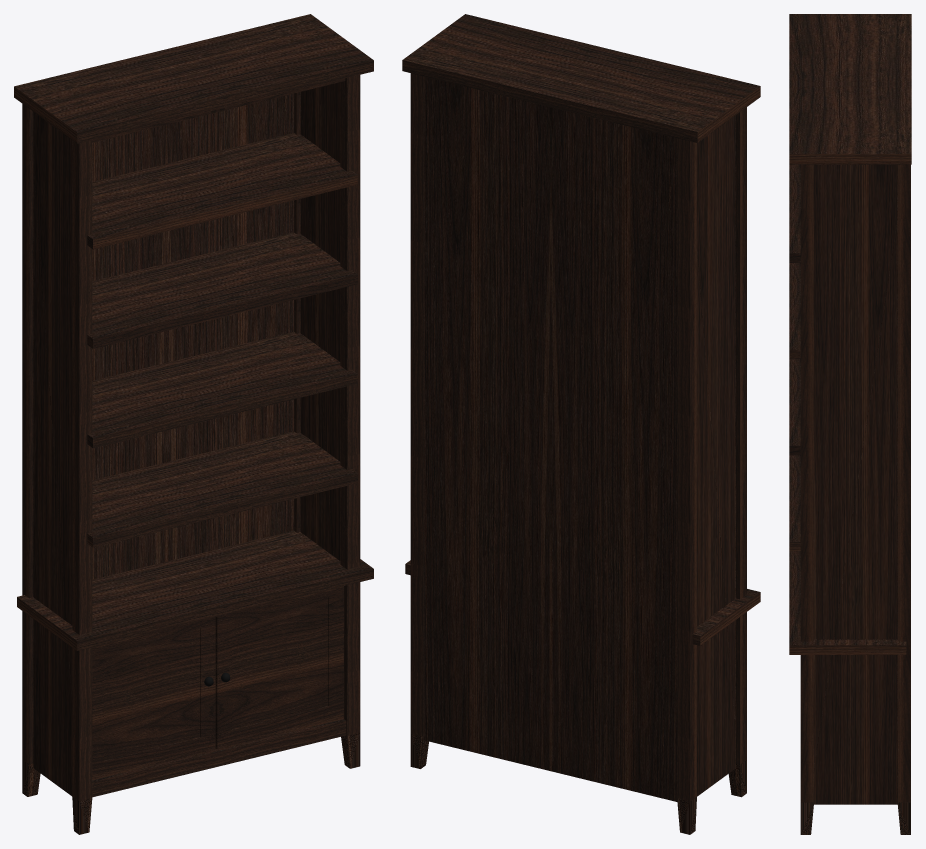
Rendered from Librero.fbx.
3 renders of one model, left to right at view 1: azimuth 30°, elevation 25°; view 2: azimuth 150°, elevation 25°; view 3: azimuth 270°, elevation 25°, orthographic. The views are drawn at different scales.
Parts seen in each view (by area): view 1: Cube.003, Plane.003, Cube.001, Plane.002, Cube.005, Cube.004, Plane, Plane.004, Cube.002; view 2: Plane.002, Cube.001, Plane.003, Cube.005, Cube.004; view 3: Plane.003, Cube.005, Cube.001, Cube.003, Cube.004.
Part boxes in pixels (bbox=[...]): Cube.003: bbox=[87, 78, 357, 547]; Plane.003: bbox=[33, 82, 340, 796]; Cube.001: bbox=[22, 75, 360, 834]; Plane.002: bbox=[92, 93, 293, 579]; Cube.005: bbox=[14, 14, 373, 143]; Cube.004: bbox=[17, 530, 373, 650]; Plane: bbox=[215, 586, 343, 749]; Plane.004: bbox=[92, 617, 215, 779]; Cube.002: bbox=[92, 719, 346, 797]; Plane.002: bbox=[424, 76, 677, 801]; Cube.001: bbox=[410, 73, 746, 834]; Plane.003: bbox=[697, 115, 735, 796]; Cube.005: bbox=[402, 14, 760, 142]; Cube.004: bbox=[405, 560, 760, 645]; Plane.003: bbox=[814, 164, 897, 804]; Cube.005: bbox=[789, 14, 911, 164]; Cube.001: bbox=[800, 164, 910, 834]; Cube.003: bbox=[789, 164, 800, 551]; Cube.004: bbox=[789, 551, 906, 654].
Bounding box in the file's own units: 95.92 × 219 × 35.4.
2 materials, 1 textured.
